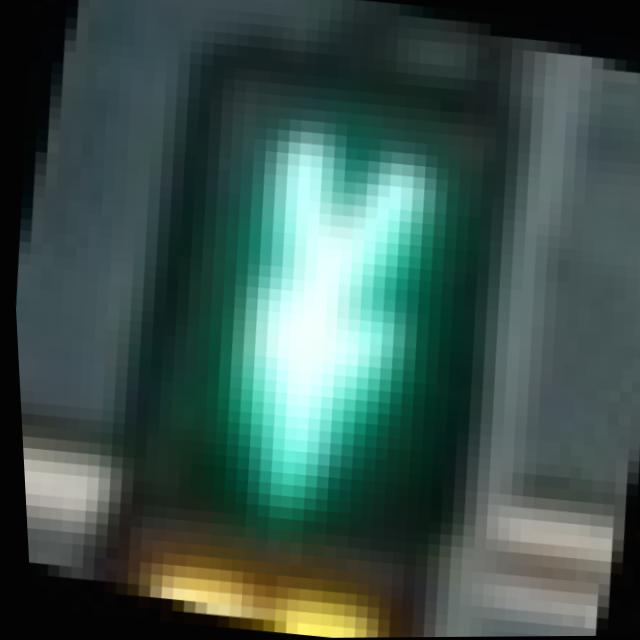green_light: (129, 37, 575, 557)
